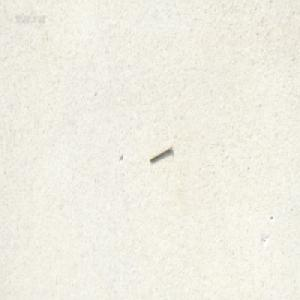Bolt: (148, 143, 171, 163)
